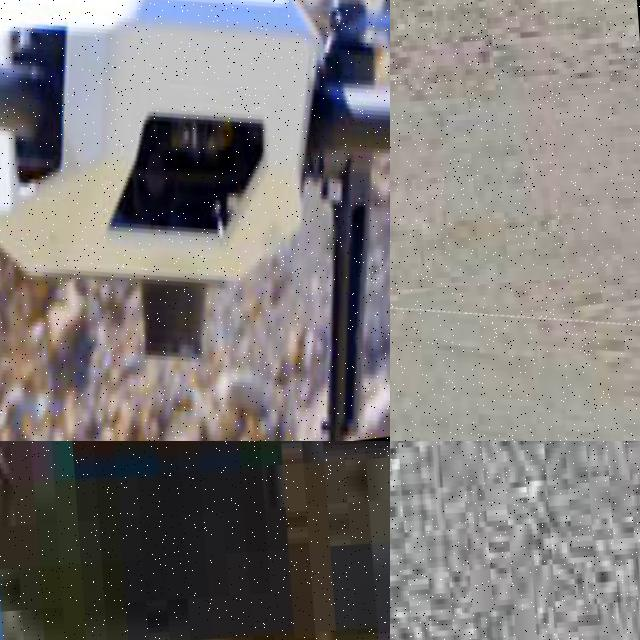drone: (0, 0, 390, 441), (390, 271, 640, 441)
